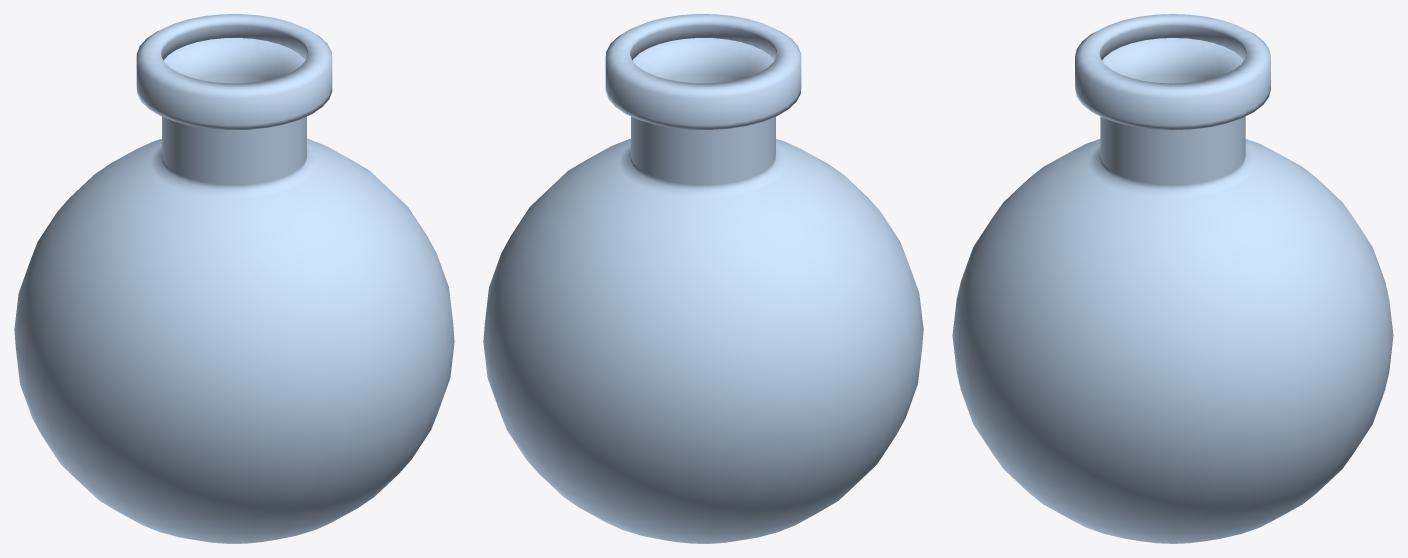
The model's file is colba.fbx.
3 views of the same model, side by side, from view 1: azimuth 30°, elevation 25°; view 2: azimuth 150°, elevation 25°; view 3: azimuth 270°, elevation 25° (orthographic).
Parts seen in each view (by area): view 1: Sphere; view 2: Sphere; view 3: Sphere.
Boxes of the visible parts, x1=… form: Sphere: x1=14, y1=14, x2=454, y2=543; Sphere: x1=483, y1=14, x2=923, y2=543; Sphere: x1=952, y1=14, x2=1393, y2=543.
Size of the model in its own units: 200 by 235 by 200.
